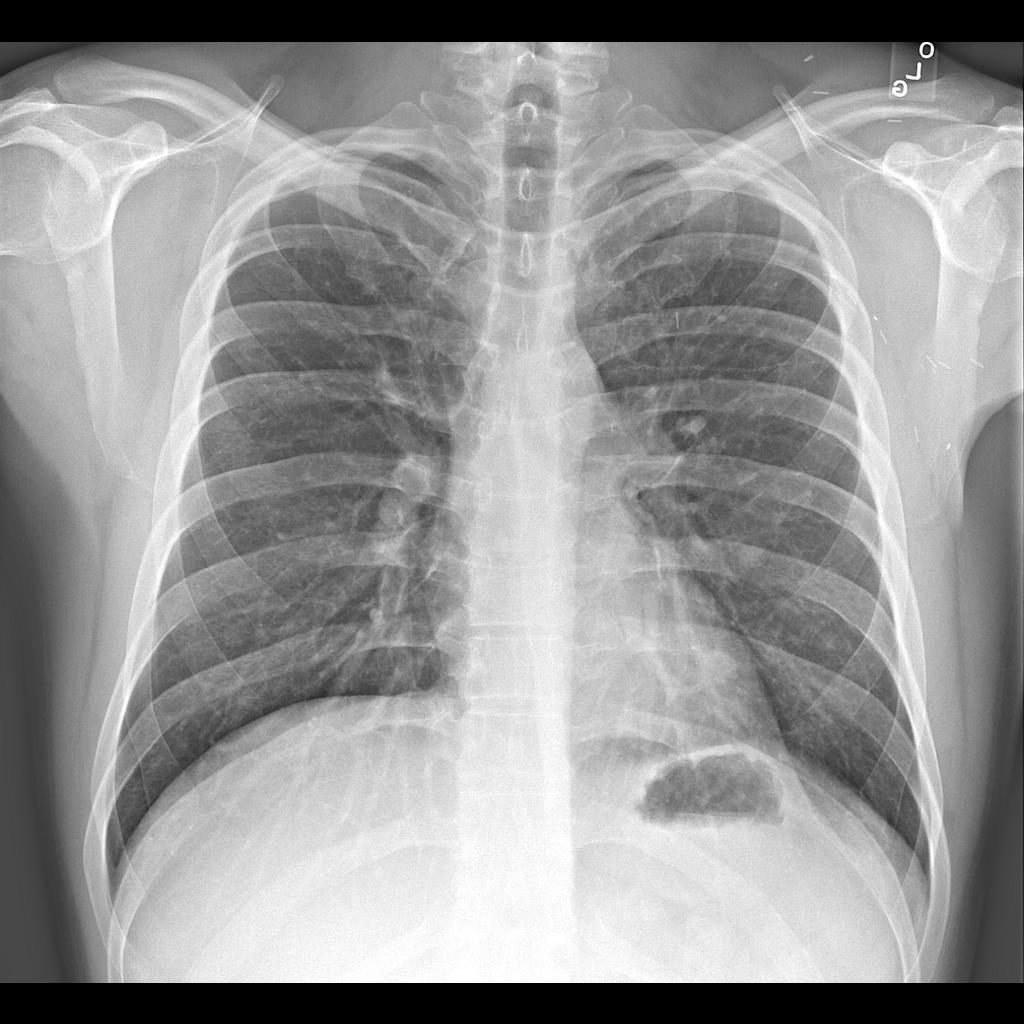Nodule: (685, 641, 743, 692), (689, 415, 708, 440)
